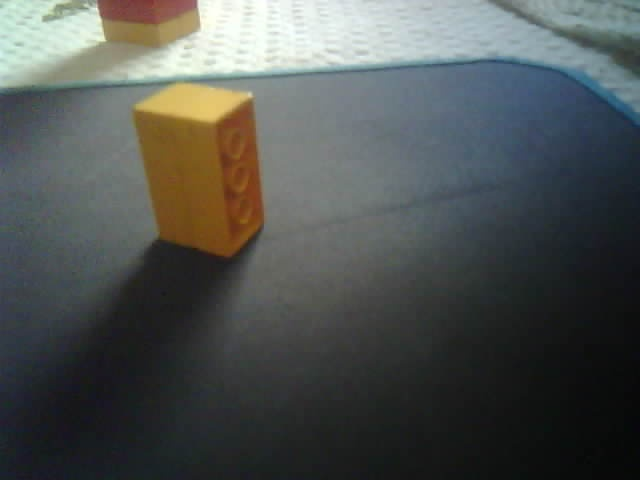lego: (132, 80, 265, 260), (96, 1, 202, 49)
